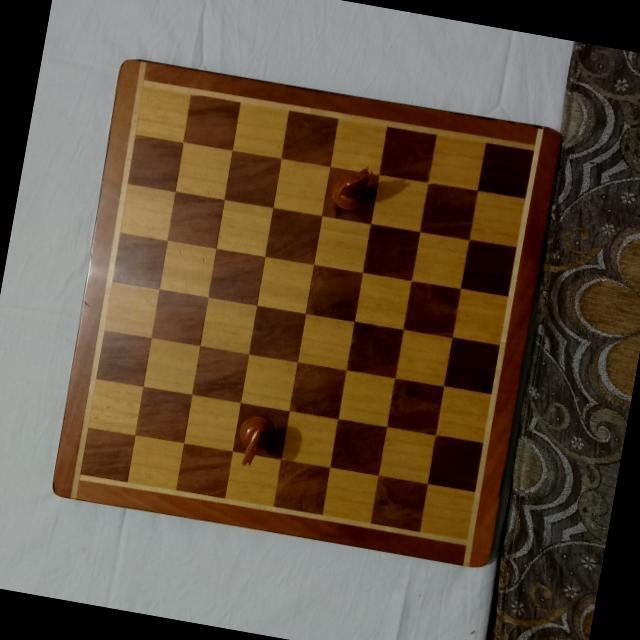white-knight: (235, 411, 279, 469), (329, 161, 375, 214)
